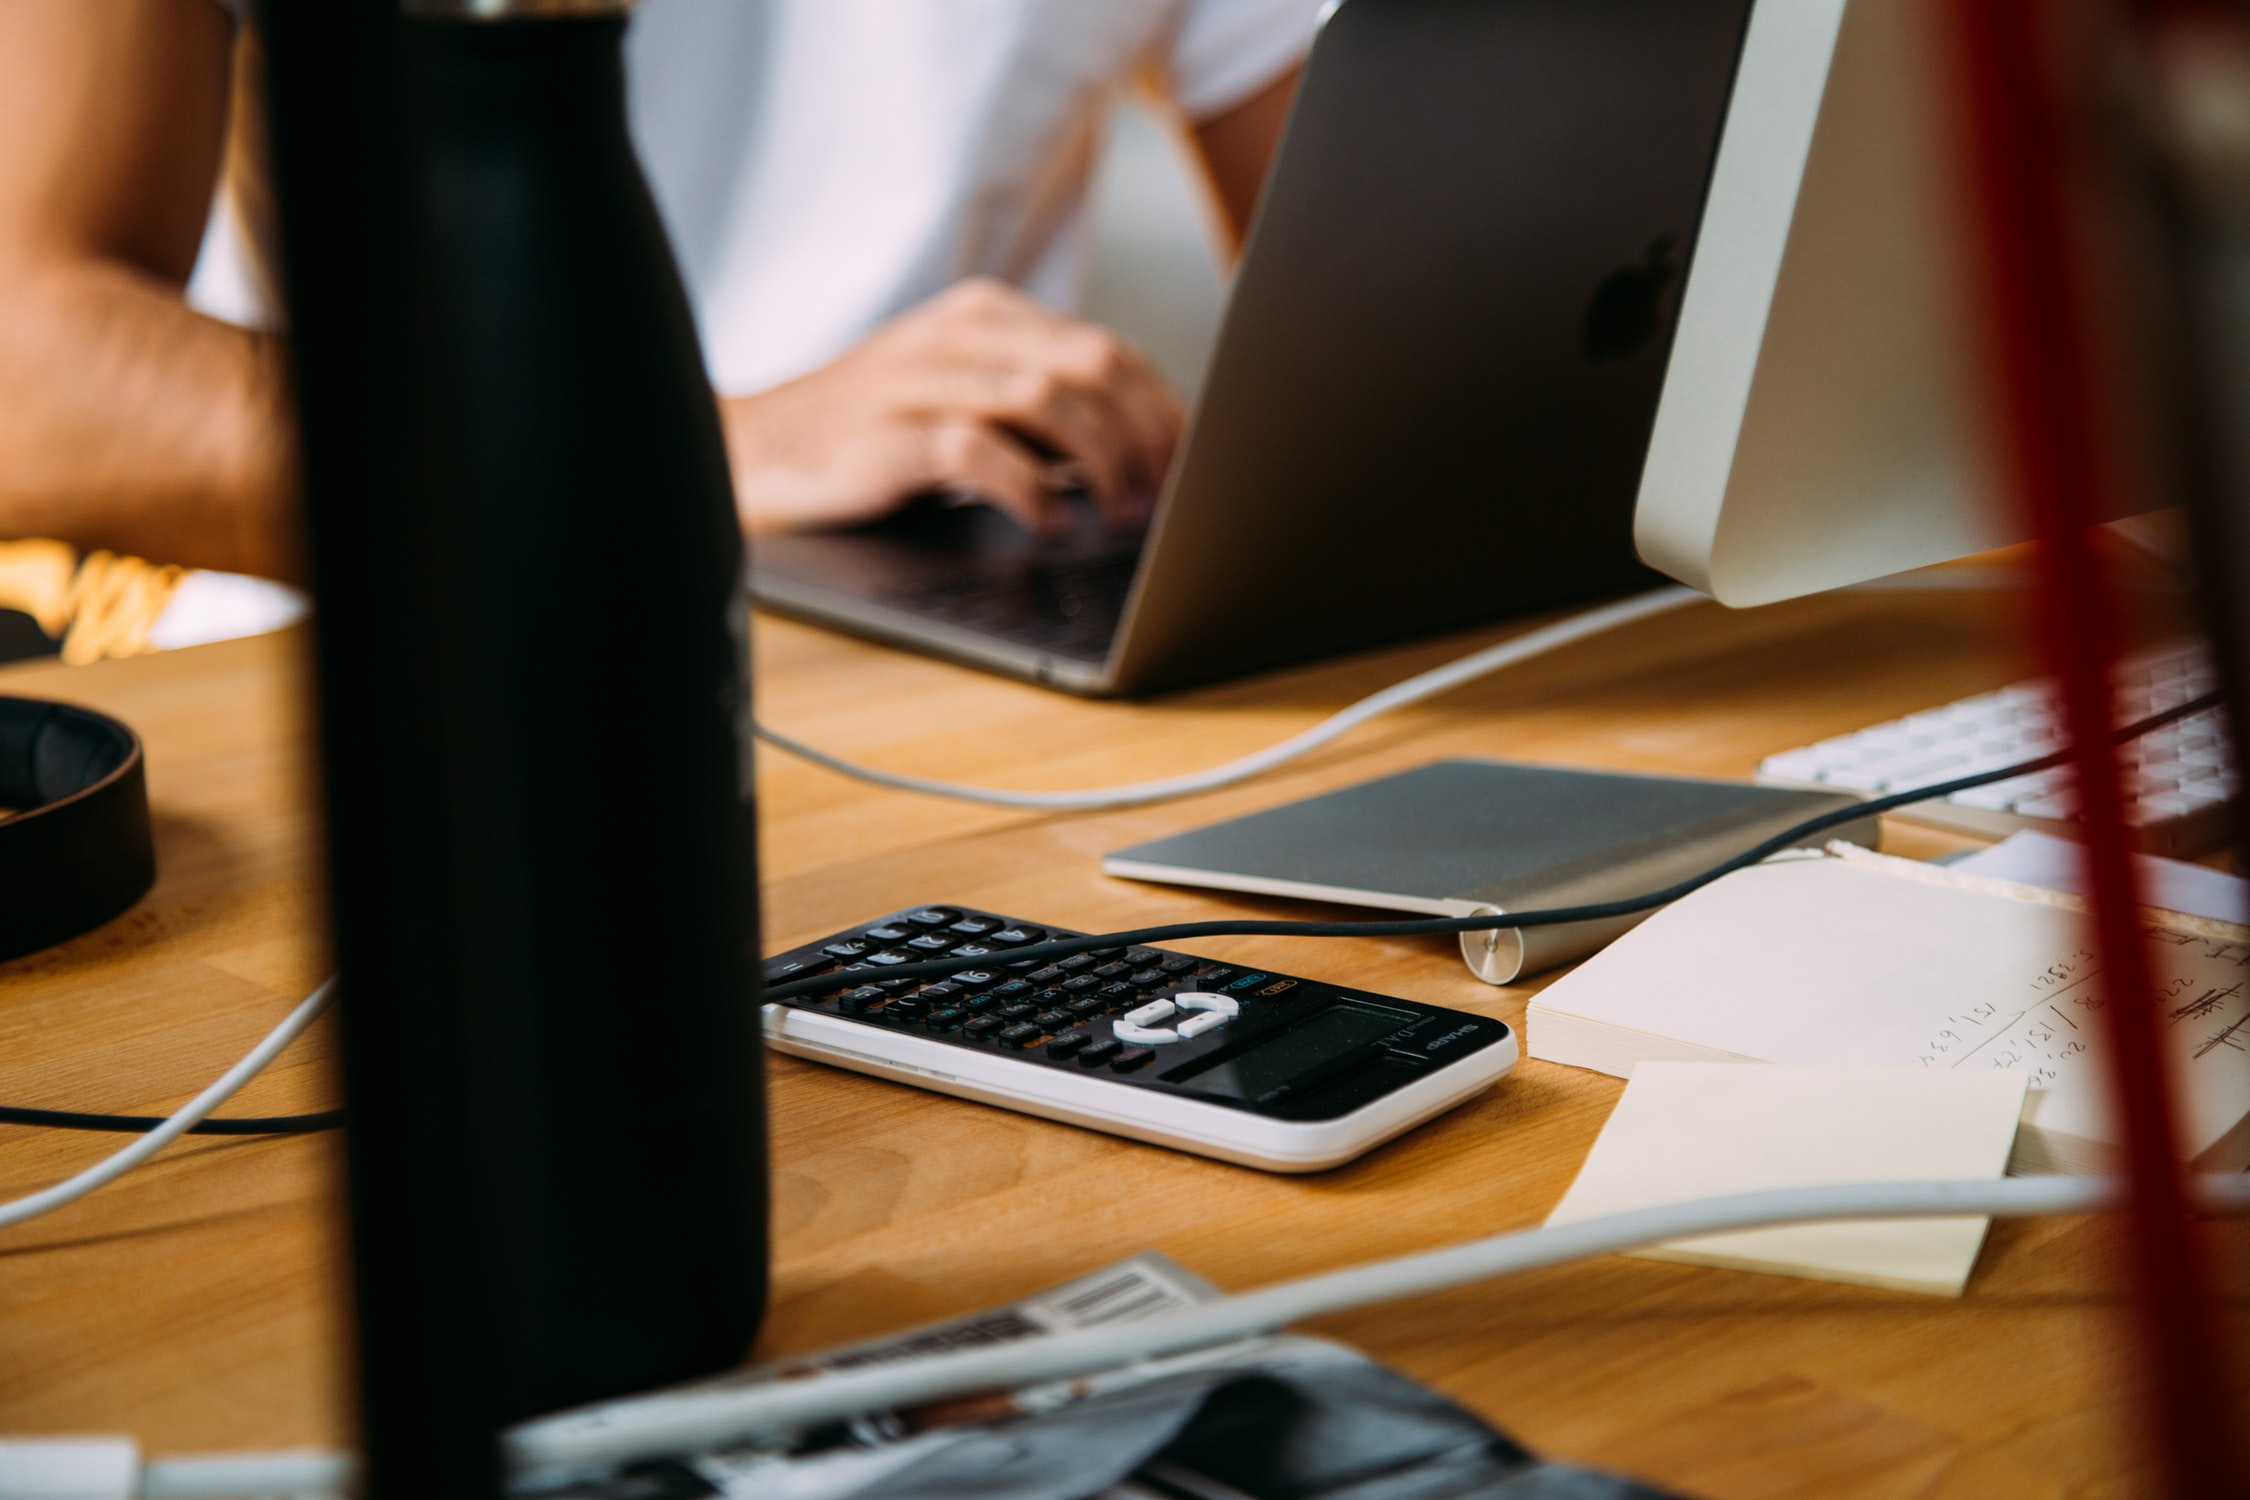Calculator: (747, 907, 1528, 1200)
